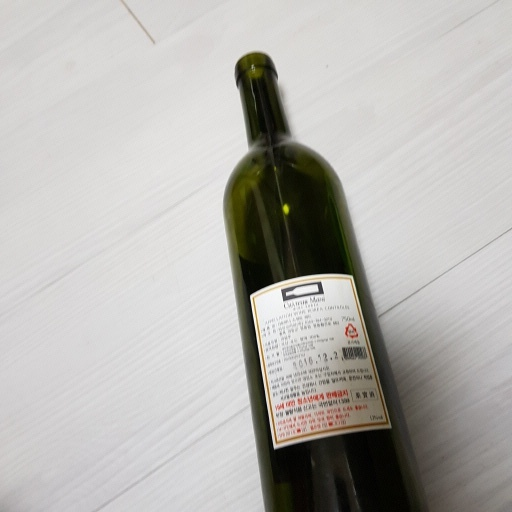Glass_2: (220, 51, 430, 512)
